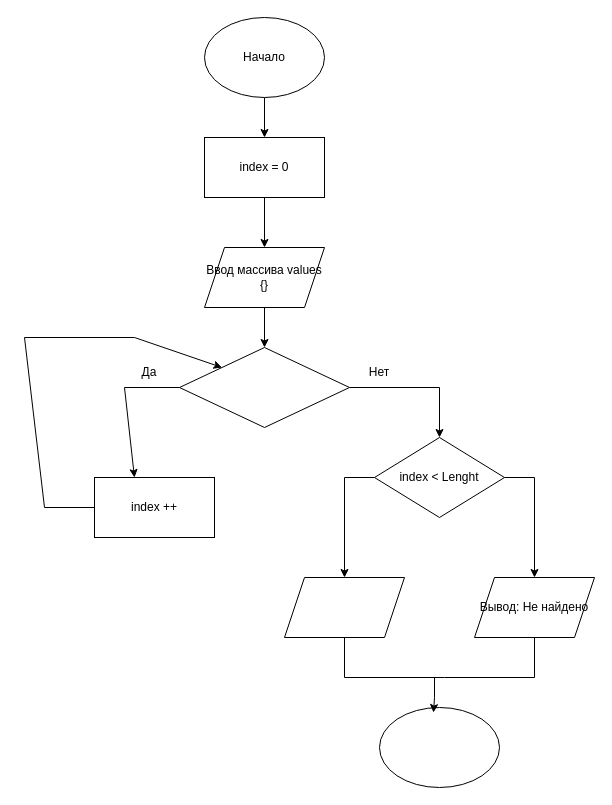
Image size: 612x805. Some labels were removed from this diagram. Here are the shapes that lost their labels. From the top down, the centre of each, then its label:
At (x=264, y=387): "index < values.Length && values[index] >= 0".
At (x=344, y=607): "Вывод: index".
At (x=439, y=747): "Конец".
